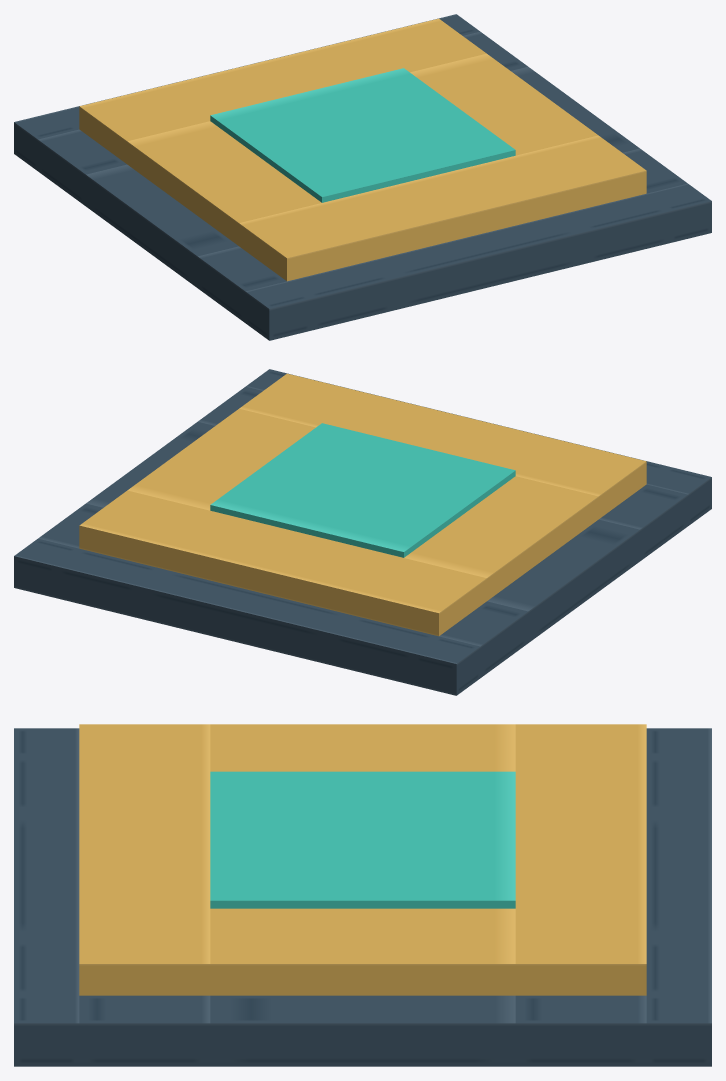
The model's file is sc_plate.obj.
3 views of the same model, one above another, from view 1: azimuth 30°, elevation 25°; view 2: azimuth 150°, elevation 25°; view 3: azimuth 270°, elevation 25° (orthographic). The views are drawn at different scales.
Size of the model in its own units: 16 by 2.1 by 16.
1 material, 1 textured.
